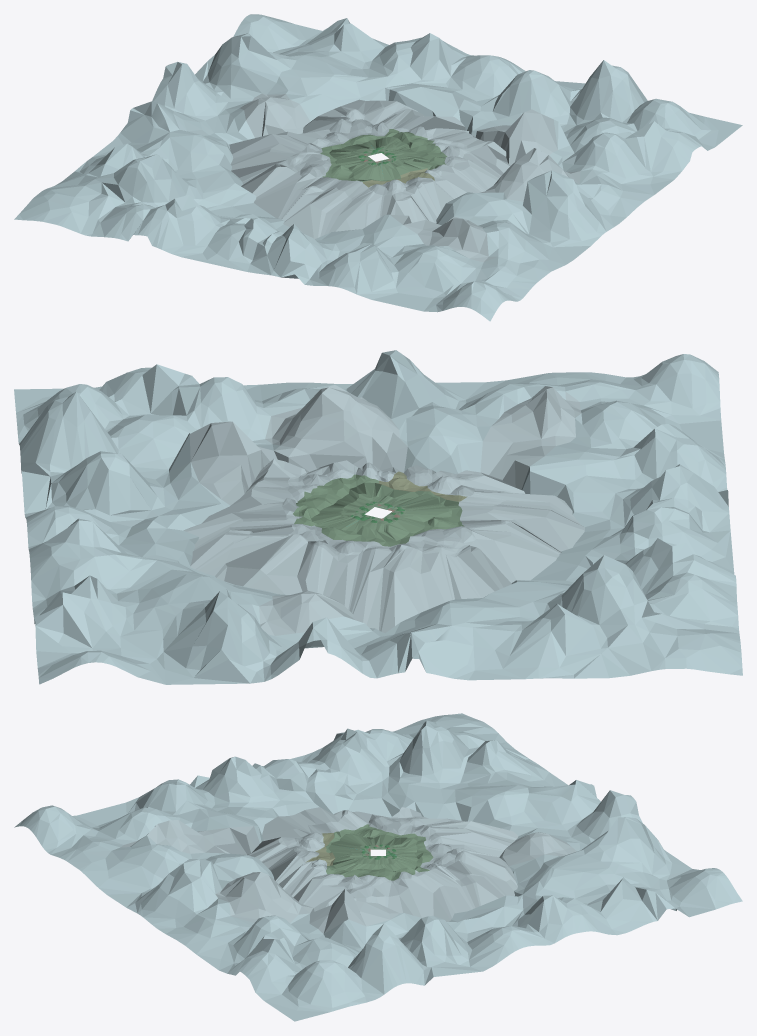
Rendered from terrain.fbx.
3 views of the same model, one above another, from view 1: azimuth 30°, elevation 25°; view 2: azimuth 150°, elevation 25°; view 3: azimuth 270°, elevation 25° (orthographic). The views are drawn at different scales.
Visible parts, largest first — view 1: terrain; view 2: terrain; view 3: terrain.
Boxes of the visible parts, x1,y1,x2,y2 form: terrain: (14, 14, 742, 321); terrain: (14, 350, 742, 684); terrain: (14, 713, 742, 1021).
Bounding box in the file's own units: 188081 × 19301 × 188081.
